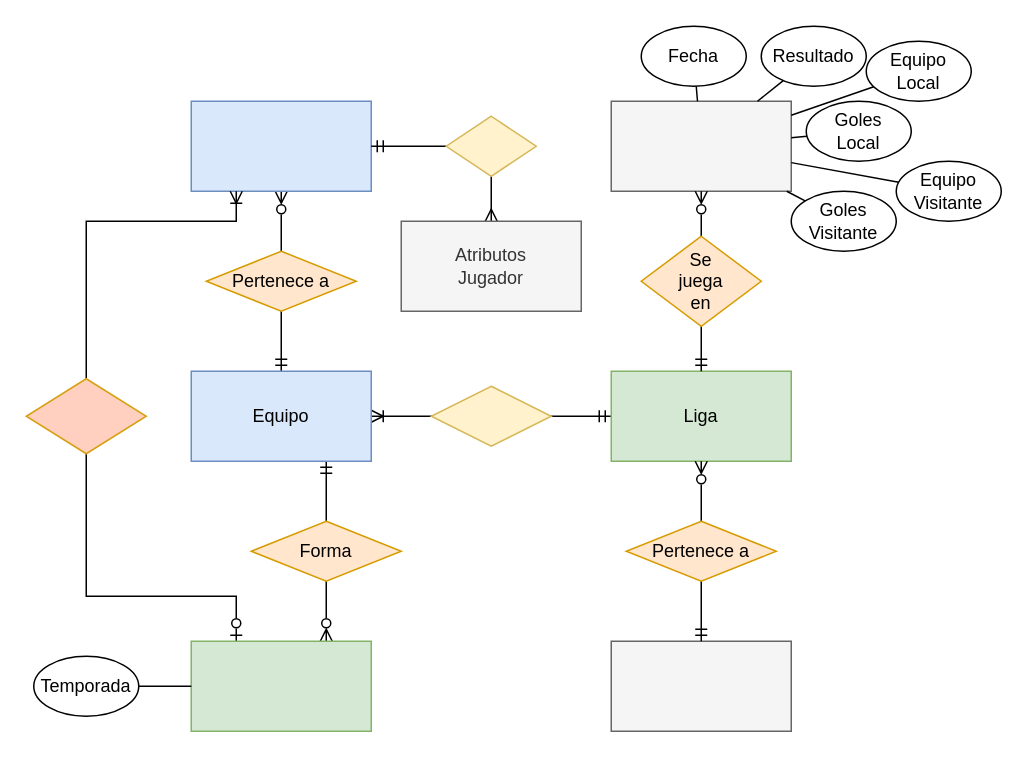
This 1028x758 diagram has some shape labels left out. Each missing label, with the centre of its shape:
"Juega en" goes at (490,415).
"Jugador" goes at (280,145).
"Lista varios" goes at (85,415).
"Partido" goes at (700,145).
"País" goes at (700,685).
"Plantel" goes at (280,685).
"Tiene" goes at (490,145).
